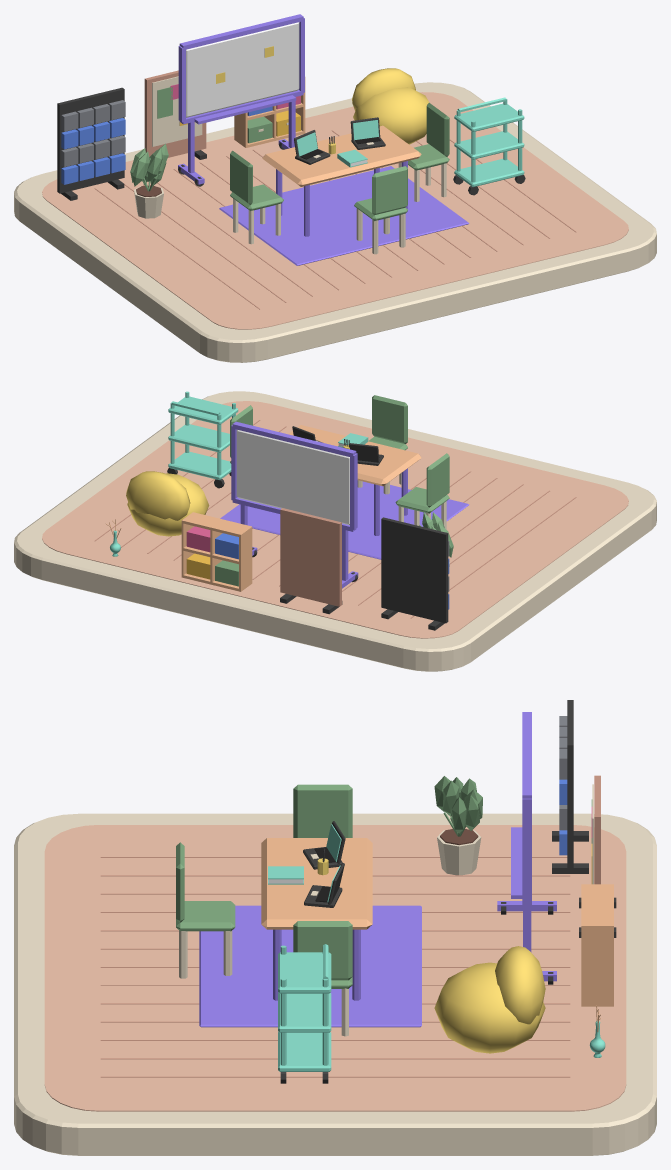
The picture shows the model from 3 angles, top to bottom: view 1: azimuth 30°, elevation 25°; view 2: azimuth 150°, elevation 25°; view 3: azimuth 270°, elevation 25°; orthographic projection. The views are drawn at different scales.
Visible parts, largest first — view 1: COM-02 Floor Surface, COM-01 Rounded Base Direct, Rug, Writing surface, Rounded table top, Beanbag shell, Panel, Pot, Backrest.002, Canvas, Panel.001, Back bolster (+12 smaller); view 2: COM-02 Floor Surface, COM-01 Rounded Base Direct, Writing surface, Panel, Panel.001, Rug, Back bolster, Rounded table top, Beanbag shell, Backrest.002, Tray, Tray.001 (+14 smaller); view 3: COM-02 Floor Surface, COM-01 Rounded Base Direct, Rug, Rounded table top, Beanbag shell, Pot, Backrest, Back bolster, Cubbies divider.002, Backrest.001, Tray.002, Tray.001 (+13 smaller).
Boxes of the visible parts, x1,y1,x2,y2 form: COM-02 Floor Surface: [42, 92, 628, 329]; COM-01 Rounded Base Direct: [14, 82, 656, 362]; Rug: [219, 166, 469, 265]; Writing surface: [186, 22, 299, 117]; Rounded table top: [262, 125, 421, 186]; Beanbag shell: [353, 87, 429, 144]; Panel: [57, 87, 124, 193]; Pot: [130, 143, 168, 218]; Backrest.002: [372, 166, 407, 215]; Canvas: [152, 76, 202, 146]; Panel.001: [144, 70, 206, 157]; Back bolster: [352, 68, 415, 110]; COM-02 Floor Surface: [42, 401, 628, 638]; COM-01 Rounded Base Direct: [14, 391, 656, 671]; Writing surface: [236, 429, 349, 525]; Panel: [381, 517, 448, 623]; Panel.001: [280, 508, 341, 606]; Rug: [220, 481, 468, 559]; Back bolster: [126, 471, 190, 520]; Rounded table top: [288, 425, 421, 486]; Beanbag shell: [127, 473, 209, 536]; Backrest.002: [372, 395, 407, 443]; Tray: [168, 451, 231, 480]; Tray.001: [168, 424, 229, 452]; COM-02 Floor Surface: [44, 825, 626, 1111]; COM-01 Rounded Base Direct: [14, 813, 656, 1155]; Rug: [199, 905, 421, 1027]; Rounded table top: [261, 838, 372, 929]; Beanbag shell: [434, 962, 545, 1053]; Pot: [434, 776, 482, 875]; Backrest: [293, 784, 352, 837]; Back bolster: [495, 946, 545, 1024]; Cubbies divider.002: [581, 925, 613, 1006]; Backrest.001: [293, 921, 352, 980]; Tray.002: [278, 952, 331, 993]; Tray.001: [278, 992, 331, 1032].
Size of the model in its own units: 6 by 2.04 by 5.2.
1 material, 1 textured.
